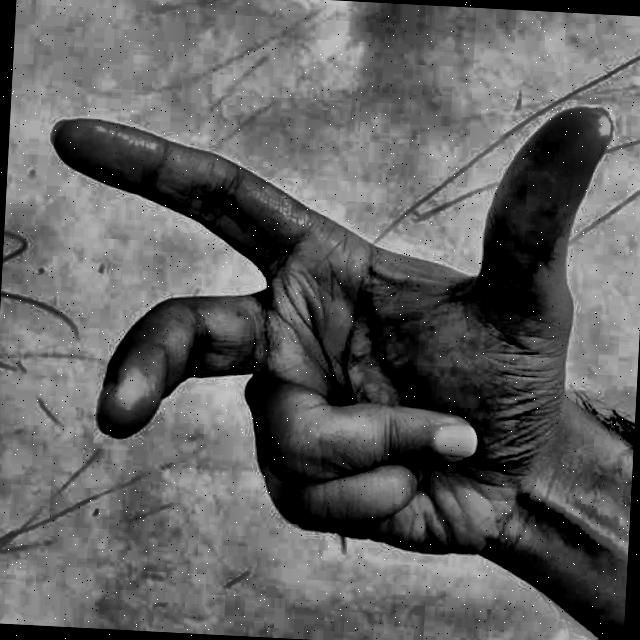Da: (15, 8, 638, 610)
